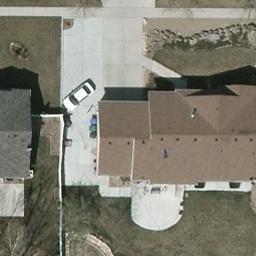car: (62, 79, 97, 115)
